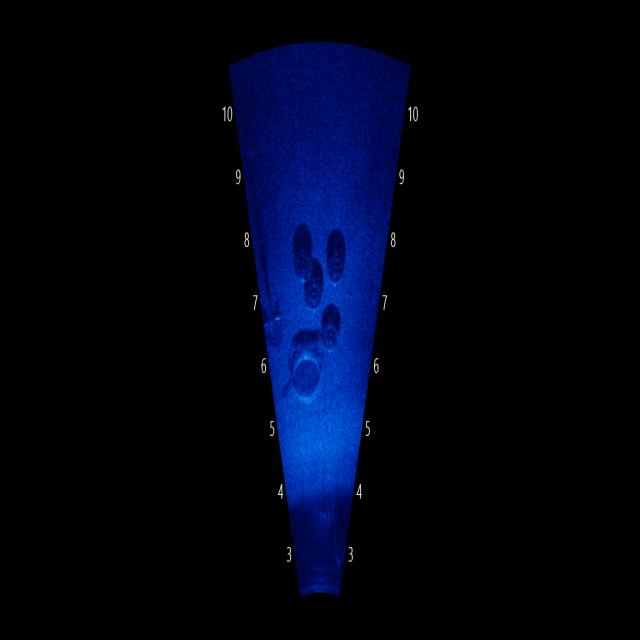circle: (285, 336, 331, 416), (290, 228, 314, 284), (321, 245, 349, 293), (321, 306, 344, 360), (302, 275, 325, 320)
